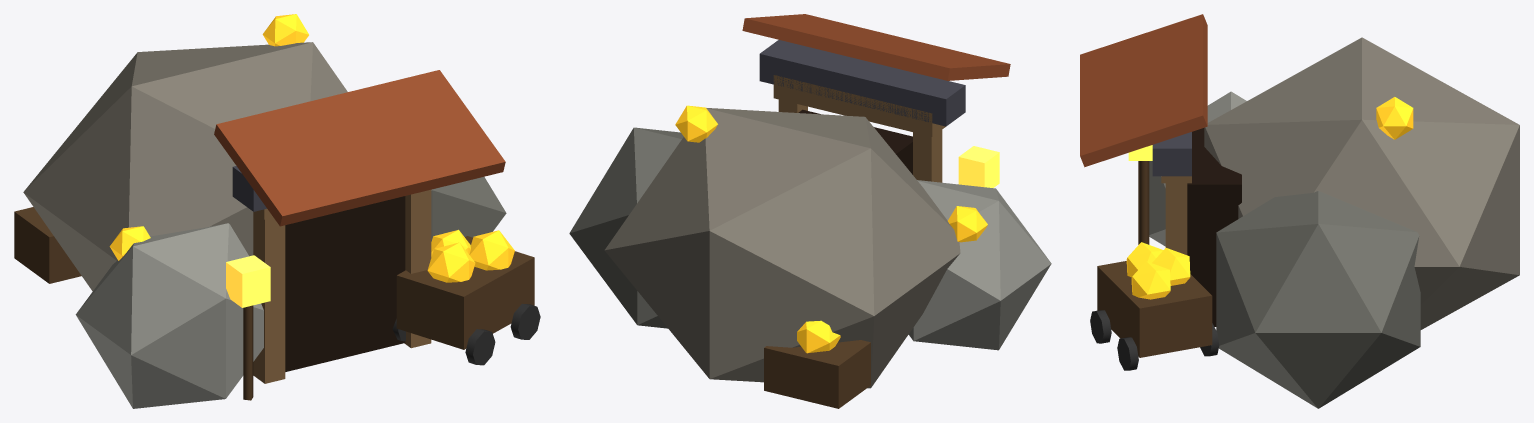
Rendered from goblin-level2.glb.
3 renders of one model, left to right at view 1: azimuth 30°, elevation 25°; view 2: azimuth 150°, elevation 25°; view 3: azimuth 270°, elevation 25°, orthographic. The views are drawn at different scales.
Size of the model in its own units: 2.17 by 1.43 by 2.14.
